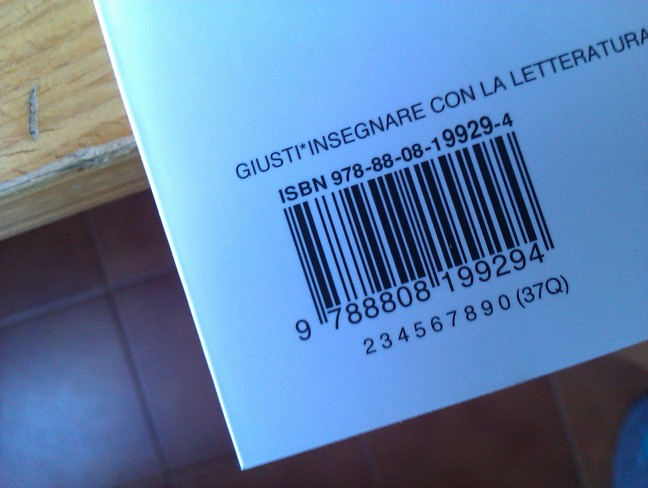detection: (237, 119, 590, 353)
